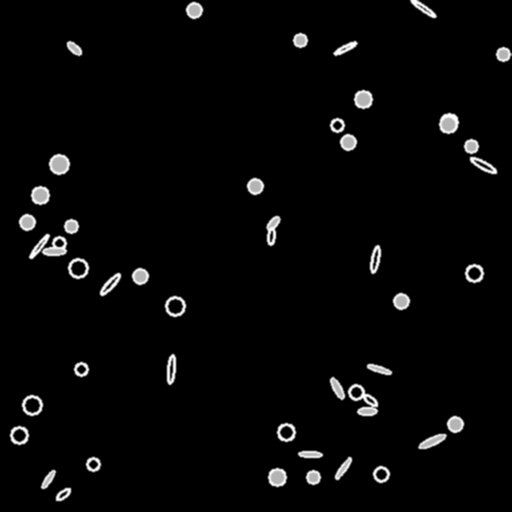pseudomonas: (469, 155, 497, 175), (28, 234, 50, 258), (99, 272, 121, 296), (418, 432, 446, 450), (410, 0, 436, 18), (334, 456, 352, 480), (333, 40, 357, 56), (329, 377, 345, 399), (40, 469, 56, 489), (369, 246, 381, 272), (366, 363, 392, 375), (66, 40, 82, 56), (265, 215, 281, 231), (167, 355, 175, 383), (55, 487, 71, 501), (362, 393, 378, 407), (42, 247, 66, 255), (267, 227, 275, 245), (299, 451, 321, 457), (358, 408, 376, 414)
synechocystis: (50, 155, 68, 173), (69, 259, 87, 277), (166, 297, 184, 315), (23, 396, 41, 414), (32, 187, 48, 203), (355, 91, 371, 107), (269, 469, 285, 485), (11, 427, 27, 443), (466, 265, 482, 281), (441, 114, 457, 130), (440, 116, 456, 132), (278, 424, 294, 440), (374, 467, 388, 481), (187, 3, 201, 17), (448, 417, 462, 431), (341, 135, 355, 149), (349, 385, 363, 399), (20, 215, 34, 229), (248, 179, 262, 193), (133, 269, 147, 283), (394, 294, 408, 308), (497, 48, 509, 60), (75, 363, 87, 375), (87, 458, 99, 470), (307, 471, 319, 483), (53, 237, 65, 249), (294, 34, 306, 46), (65, 220, 77, 232), (331, 119, 343, 131), (465, 140, 477, 152)
